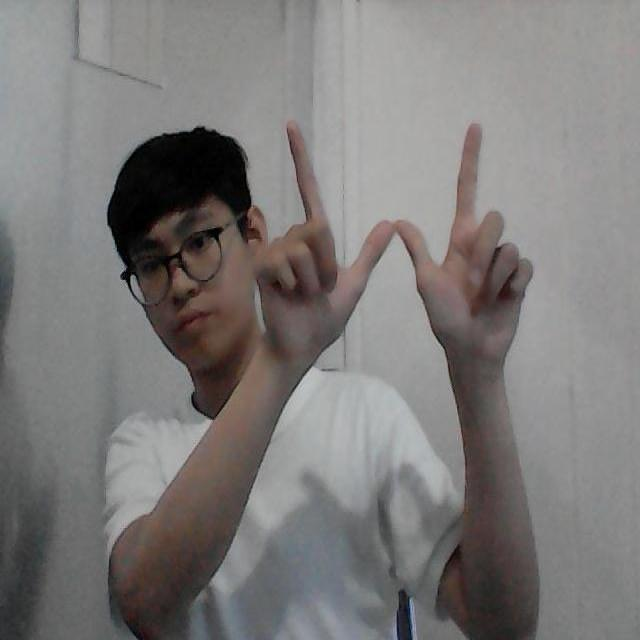W: (247, 110, 532, 372)
